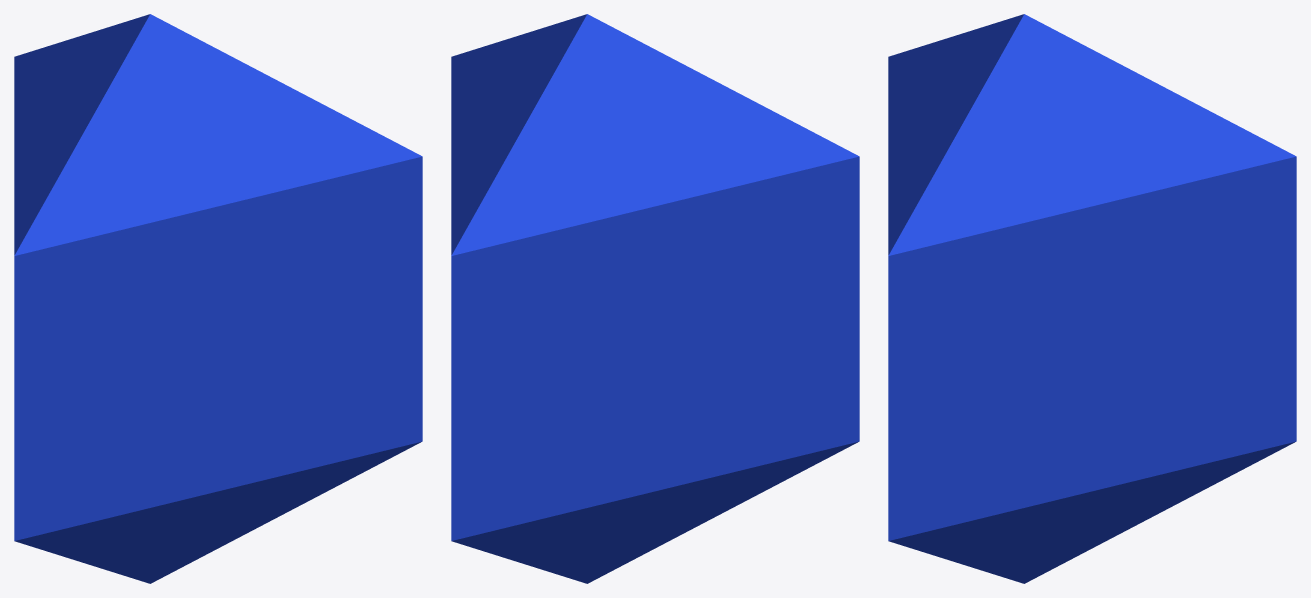
Rendered from drop.gltf.
3 views of the same model, side by side, from view 1: azimuth 30°, elevation 25°; view 2: azimuth 150°, elevation 25°; view 3: azimuth 270°, elevation 25° (orthographic).
Parts seen in each view (by area): view 1: Sphere; view 2: Sphere; view 3: Sphere.
Part boxes in pixels (box(x1,y1,x2,y2)): Sphere: box(14, 14, 422, 583); Sphere: box(451, 14, 859, 583); Sphere: box(888, 14, 1296, 583).
Bounding box in the file's own units: 0.06 × 0.08 × 0.052.
